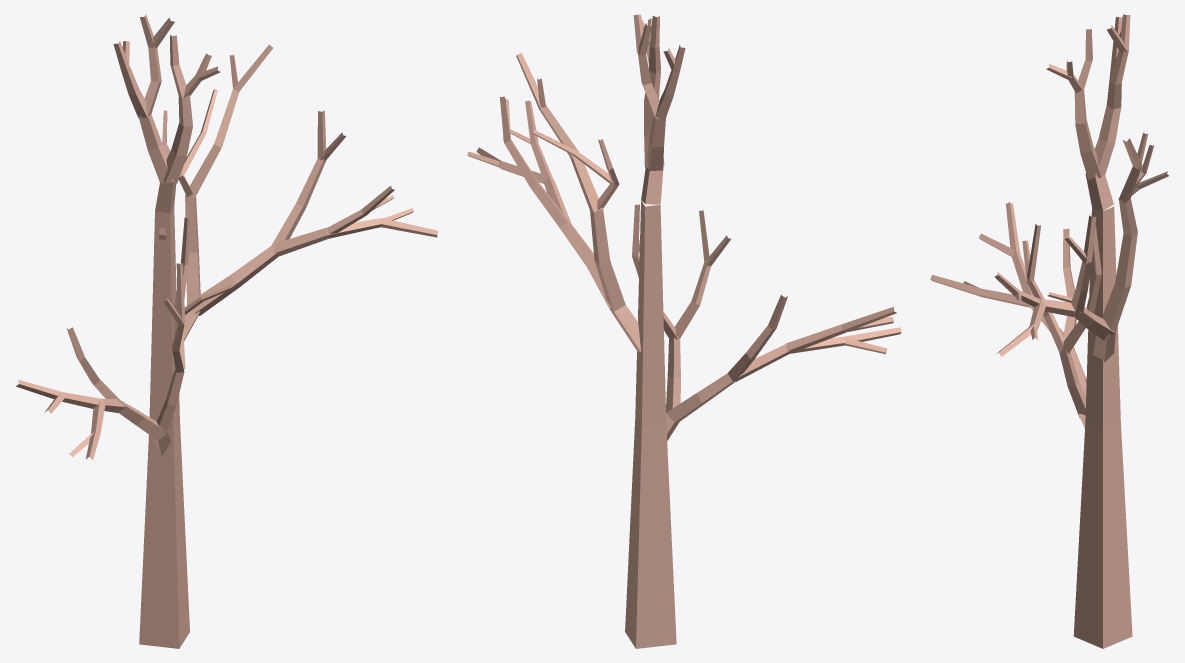
File: tree_small.gltf
The picture shows the model from 3 angles, left to right: view 1: azimuth 30°, elevation 25°; view 2: azimuth 150°, elevation 25°; view 3: azimuth 270°, elevation 25°; orthographic projection.
Parts seen in each view (by area): view 1: tree; view 2: tree; view 3: tree.
Part boxes in pixels (x1=…): tree: x1=16, y1=14, x2=438, y2=648; tree: x1=467, y1=14, x2=901, y2=648; tree: x1=930, y1=14, x2=1168, y2=648.
Size of the model in its own units: 0.5673 by 0.7987 by 0.2819.
